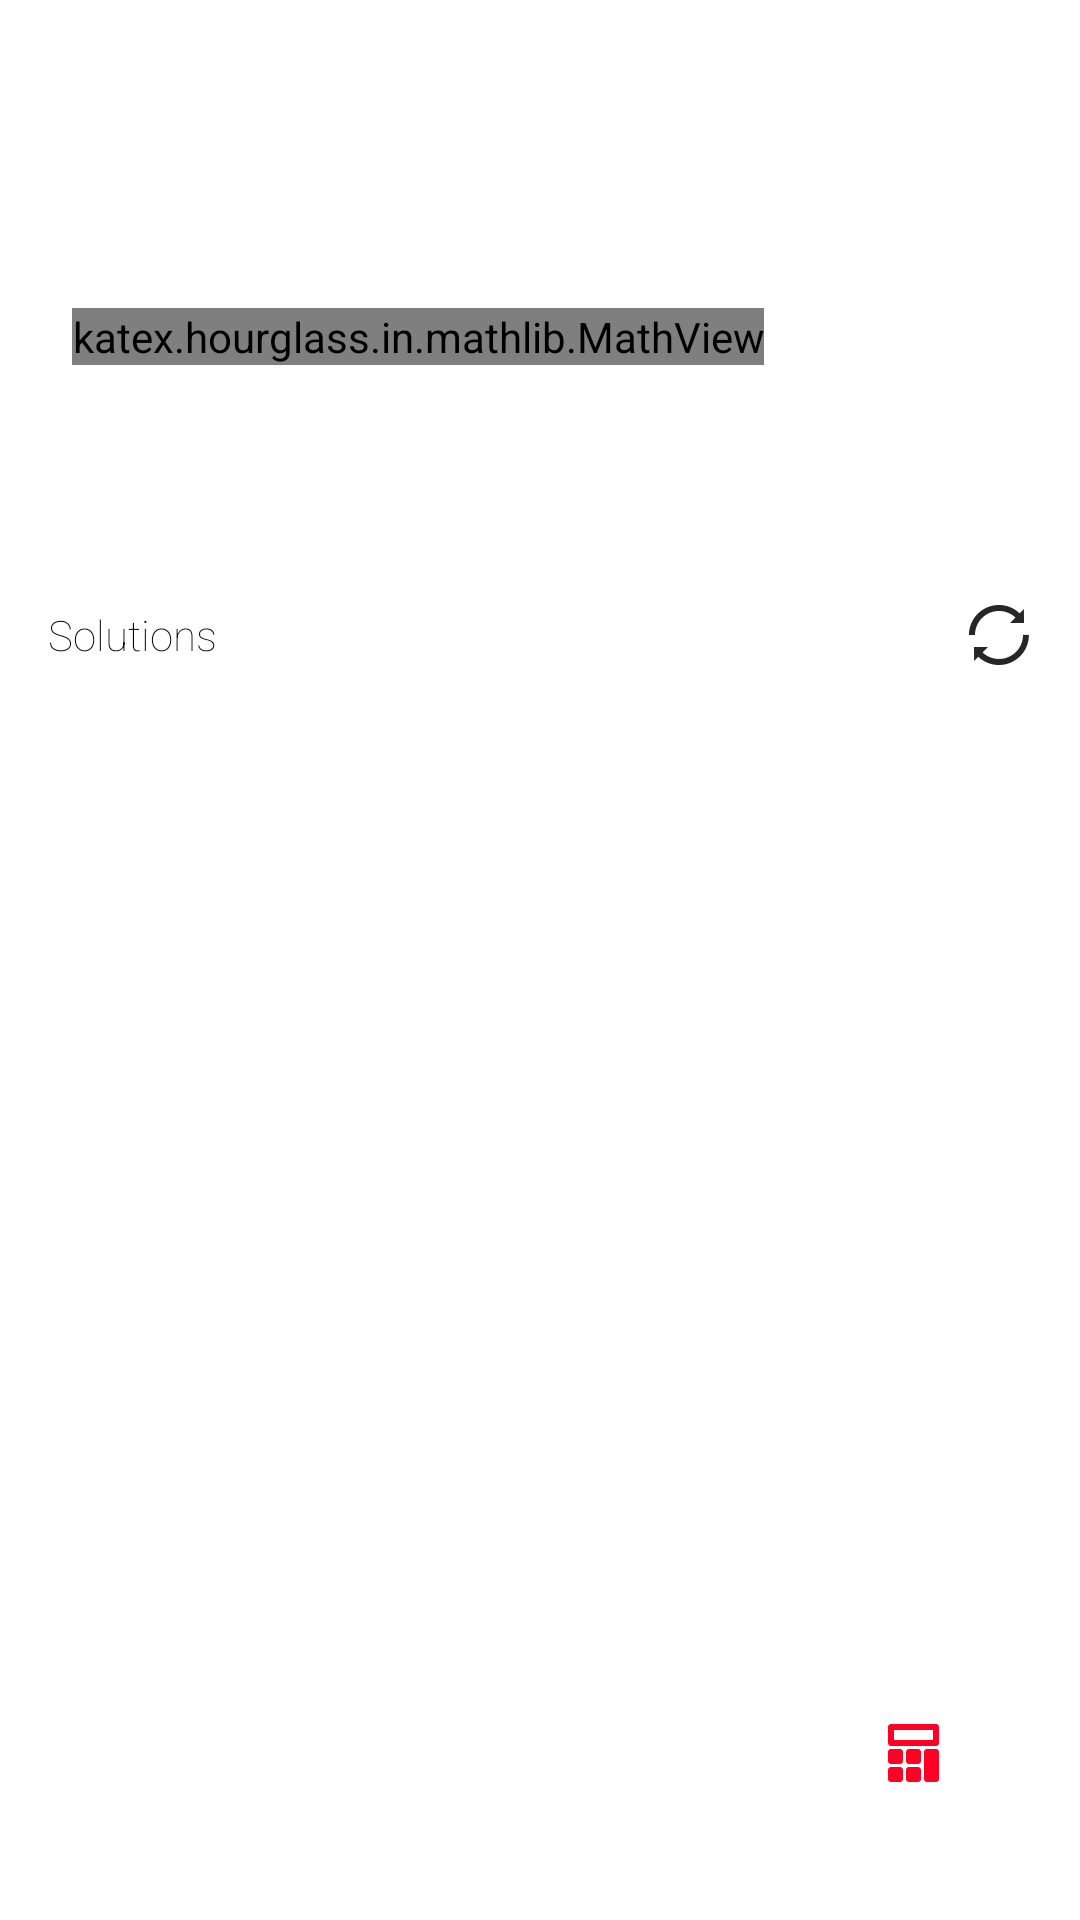

Named icons in this screenshot (1080 × 1920) and their bounding boxes, BBox(x1, y1, x2, y2):
refresh: BBox(969, 605, 1029, 665)
solve keyboard: BBox(888, 1724, 939, 1782)
